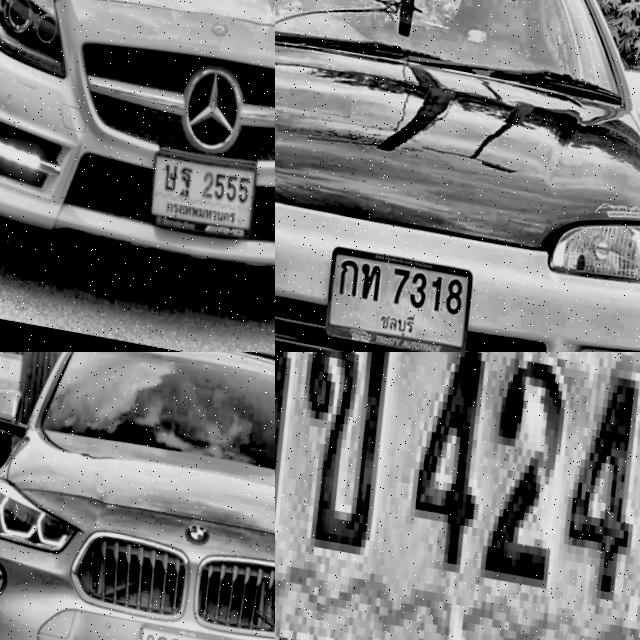license-plate: (275, 352, 640, 640), (305, 238, 473, 352), (123, 136, 262, 250), (117, 615, 233, 640)
